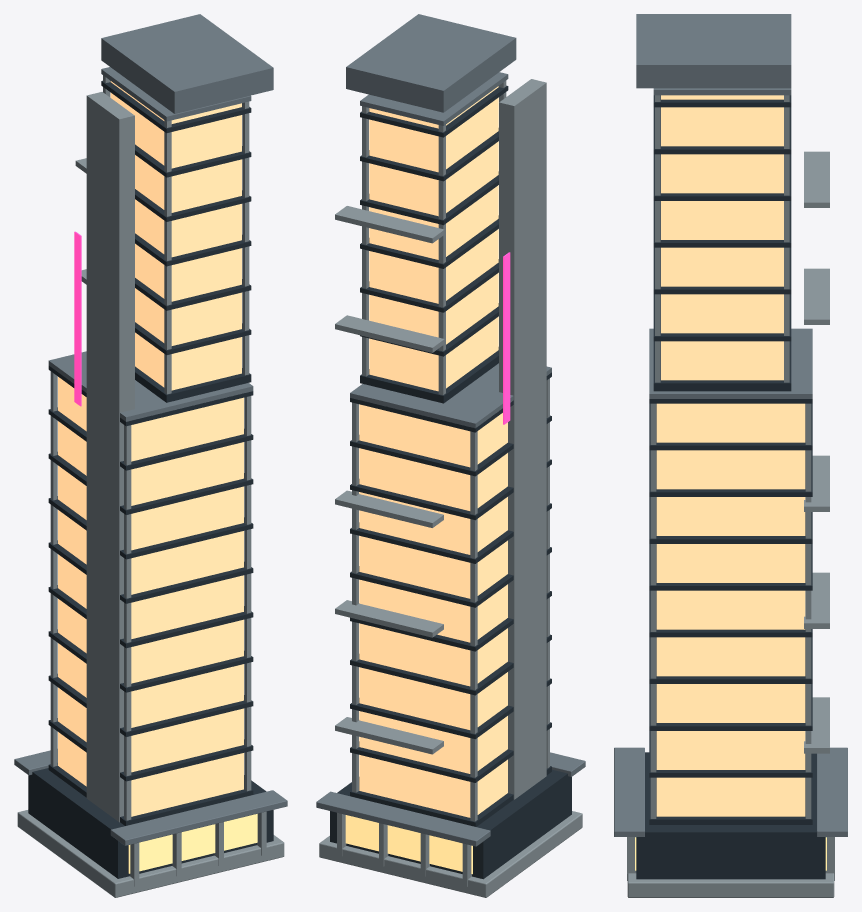
Rendered from vrx_city_hotel_b_LOD0.fbx.
The picture shows the model from 3 angles, left to right: view 1: azimuth 30°, elevation 25°; view 2: azimuth 150°, elevation 25°; view 3: azimuth 270°, elevation 25°; orthographic projection. The views are drawn at different scales.
Parts seen in each view (by area): view 1: vrx_city_hotel_b_LOD0; view 2: vrx_city_hotel_b_LOD0; view 3: vrx_city_hotel_b_LOD0.
Part boxes in pixels (<box>): vrx_city_hotel_b_LOD0: <box>14,14,287,897</box>; vrx_city_hotel_b_LOD0: <box>316,14,585,897</box>; vrx_city_hotel_b_LOD0: <box>614,14,847,897</box>.
Size of the model in its own units: 24 by 106 by 27.2.
